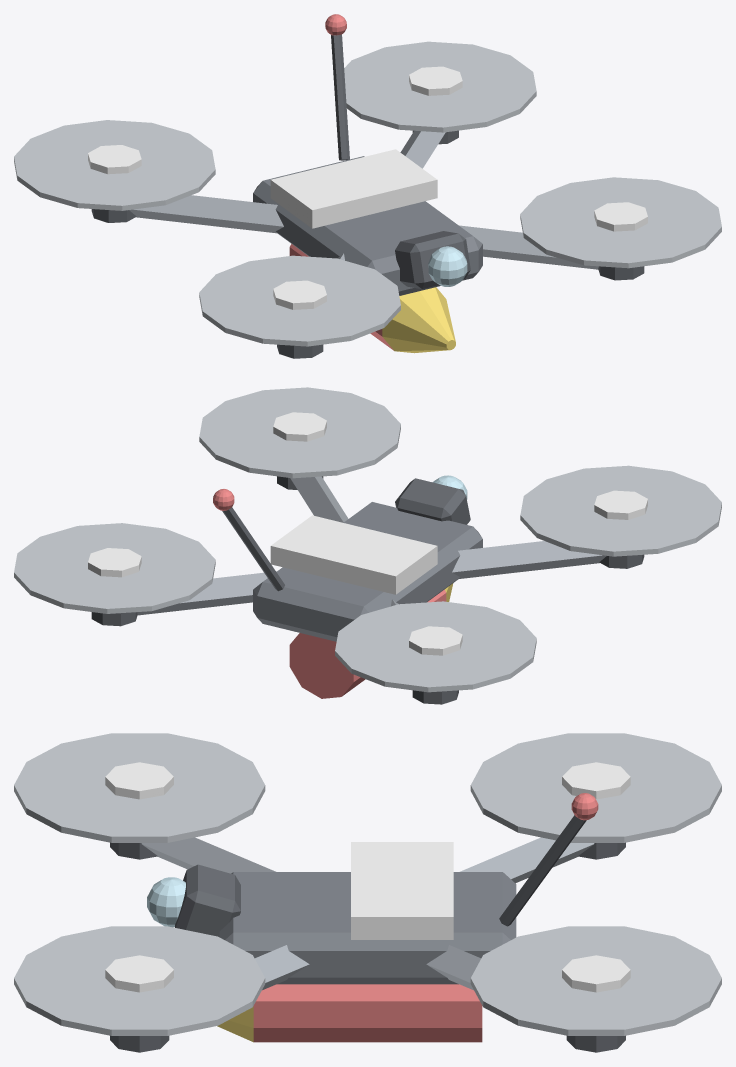
The model's file is fpv.glb.
3 renders of one model, top to bottom at view 1: azimuth 30°, elevation 25°; view 2: azimuth 150°, elevation 25°; view 3: azimuth 270°, elevation 25°, orthographic. The views are drawn at different scales.
Parts seen in each view (by area): view 1: main; view 2: main; view 3: main.
Part boxes in pixels (x1=…): main: x1=14, y1=14, x2=721, y2=358; main: x1=14, y1=387, x2=721, y2=704; main: x1=14, y1=733, x2=721, y2=1052.
Bounding box in the file's own units: 0.6145 × 0.269 × 0.62.
